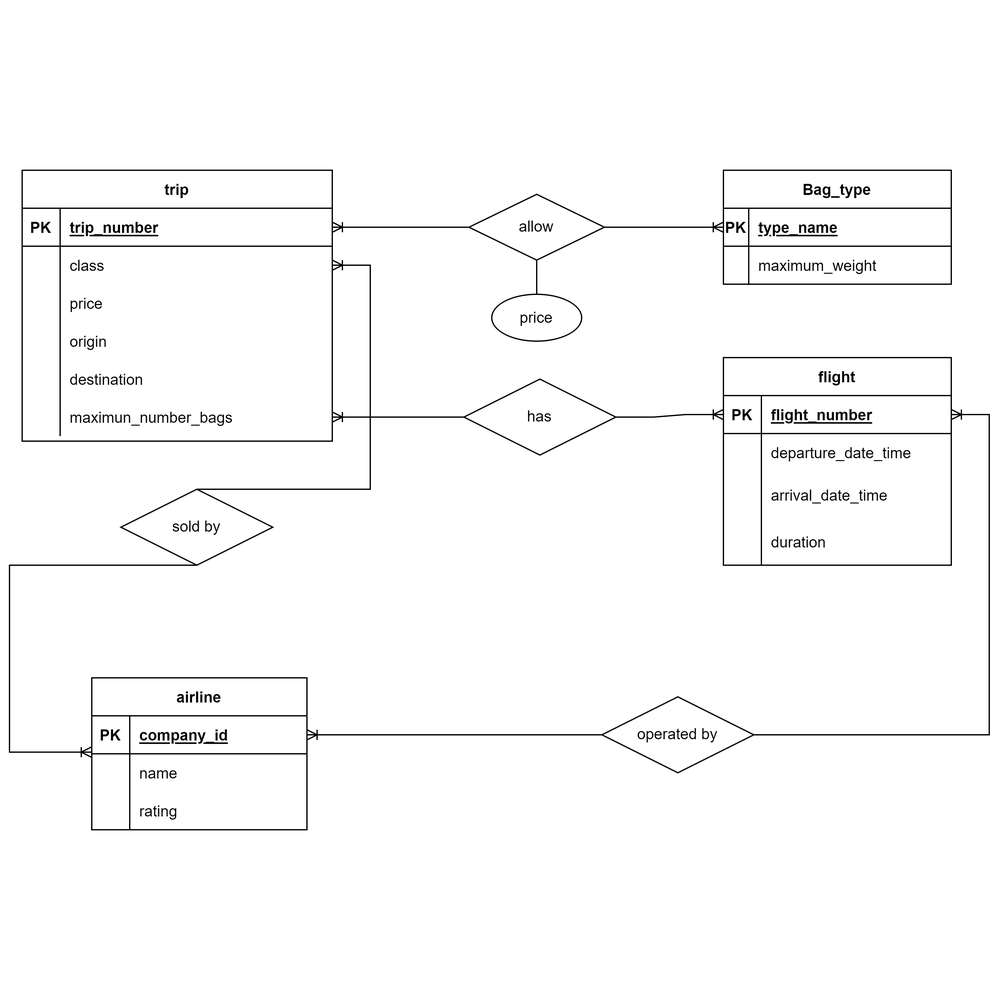attribute: (471, 279, 596, 342)
entity: (18, 164, 345, 449), (716, 349, 954, 572), (87, 673, 314, 836), (713, 167, 960, 289)
relationship: (451, 372, 619, 469), (595, 689, 769, 778), (112, 478, 287, 566), (469, 191, 620, 259)
